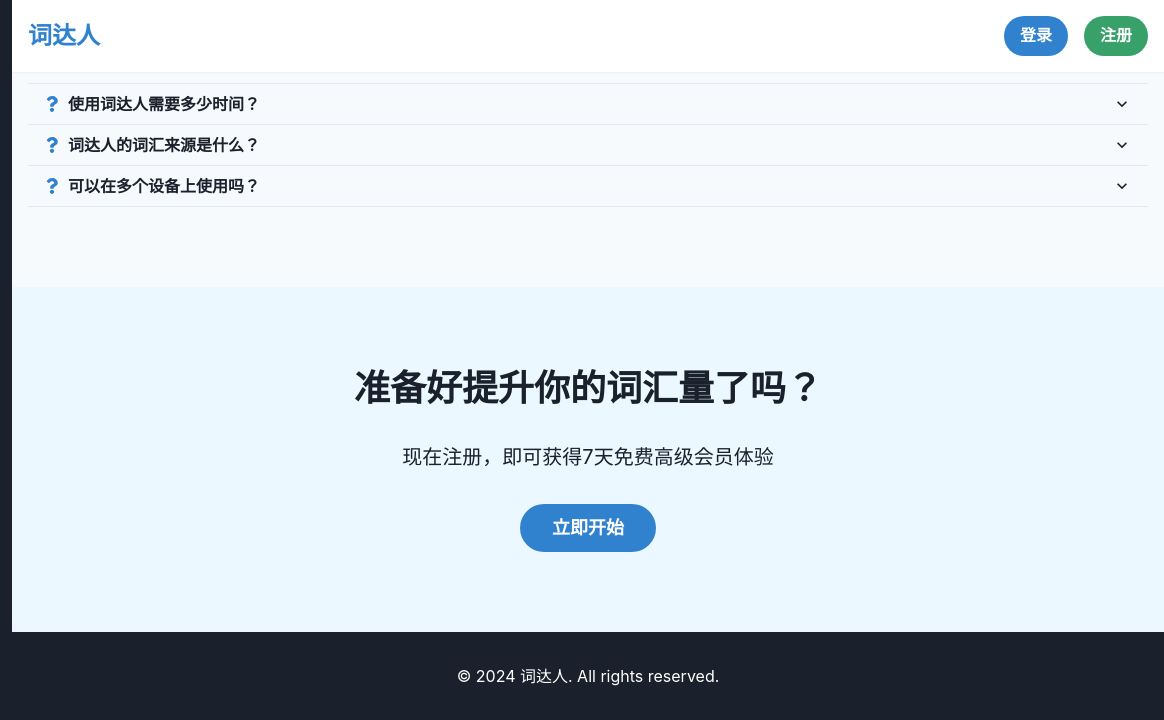
Test: HomePage › navigates to sign up page when get started immediately button is clicked
(page scrolled)
Step 1. Click the link "立即开始" → (588,528), box [520,504,656,552]
(page scrolled)
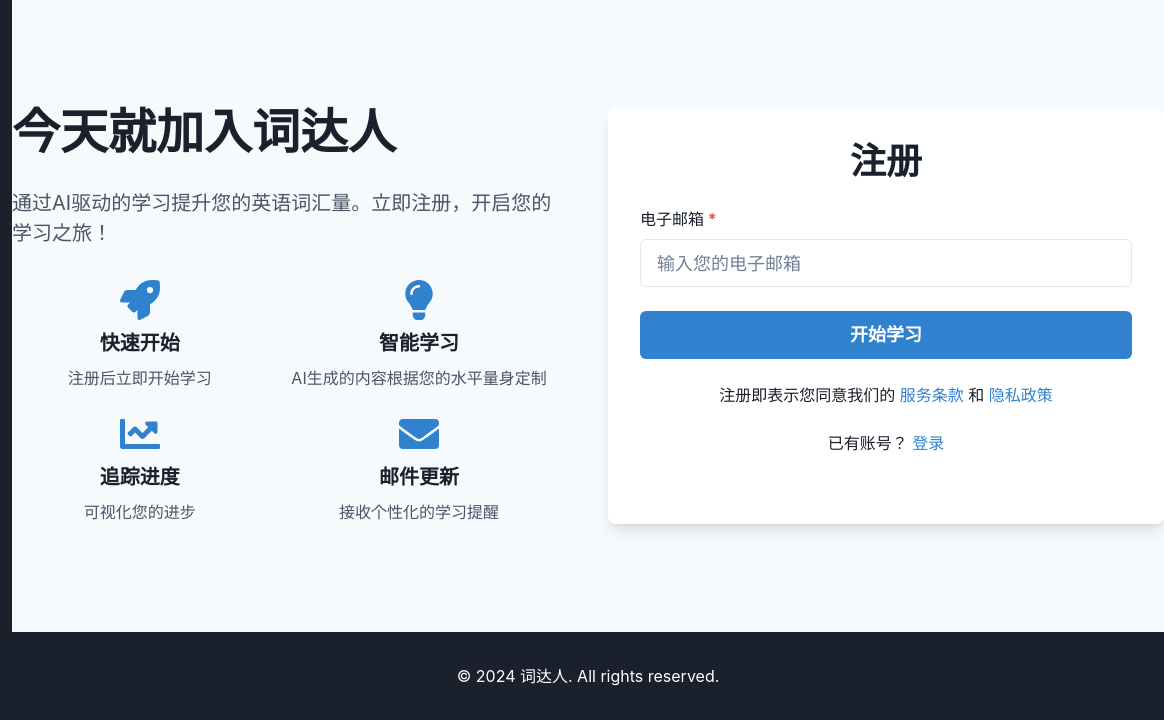
Expected: the heading "今天就加入词达人" is shown, [12,108,396,156]
